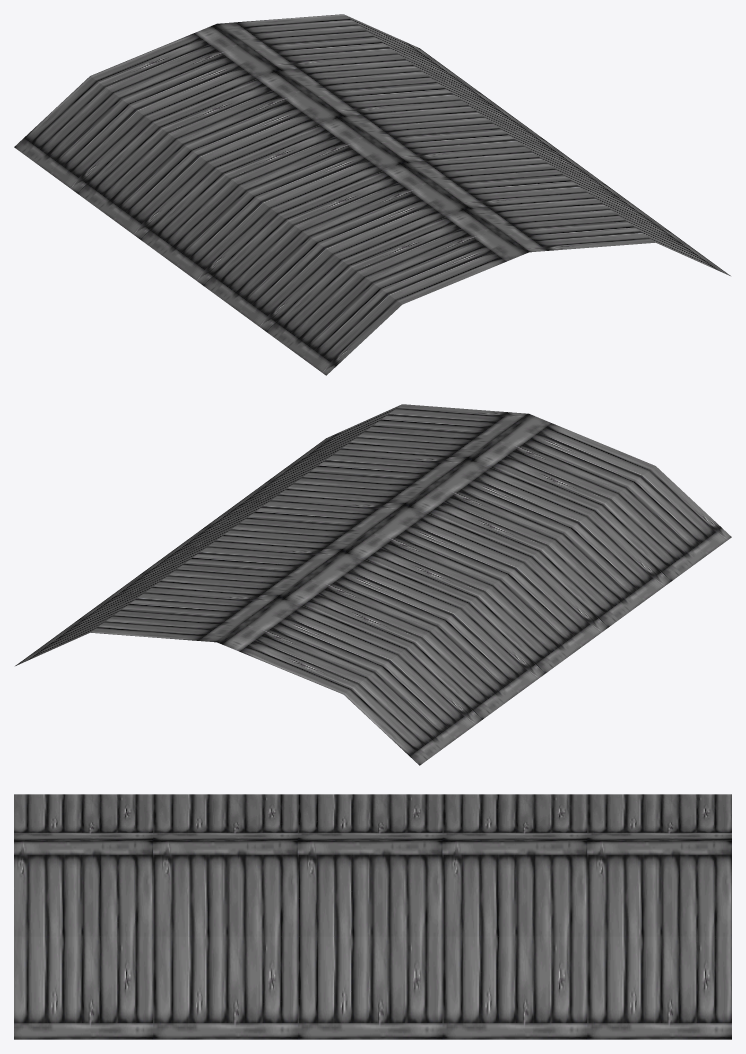
The model's file is Dach_LagerhalleWellblech_979.glb.
The picture shows the model from 3 angles, top to bottom: view 1: azimuth 30°, elevation 25°; view 2: azimuth 150°, elevation 25°; view 3: azimuth 270°, elevation 25°; orthographic projection. The views are drawn at different scales.
Visible parts, largest first — view 1: pPlaneShape1; view 2: pPlaneShape1; view 3: pPlaneShape1.
Part boxes in pixels (box(x1,y1,x2,y2)): pPlaneShape1: box(14, 14, 730, 375); pPlaneShape1: box(15, 404, 731, 765); pPlaneShape1: box(14, 794, 731, 1039).
Bounding box in the file's own units: 3 × 0.5226 × 4.
Materials: 1 (1 with a texture image).
